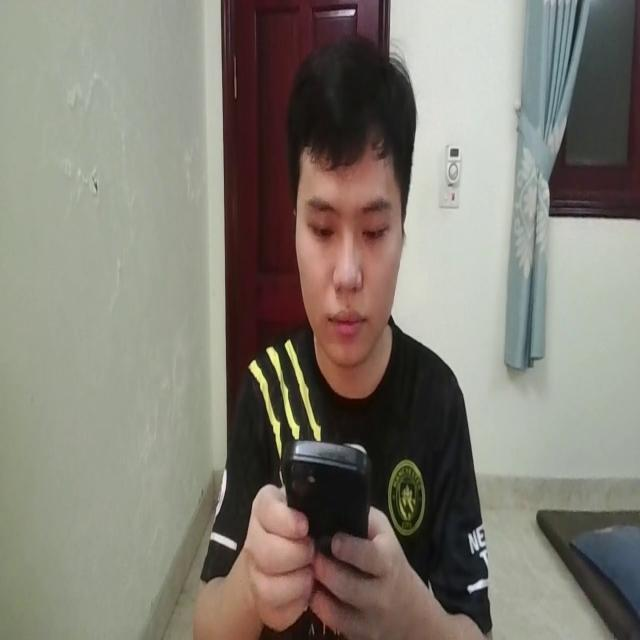phone: (283, 434, 373, 583)
student: (201, 28, 489, 640)
